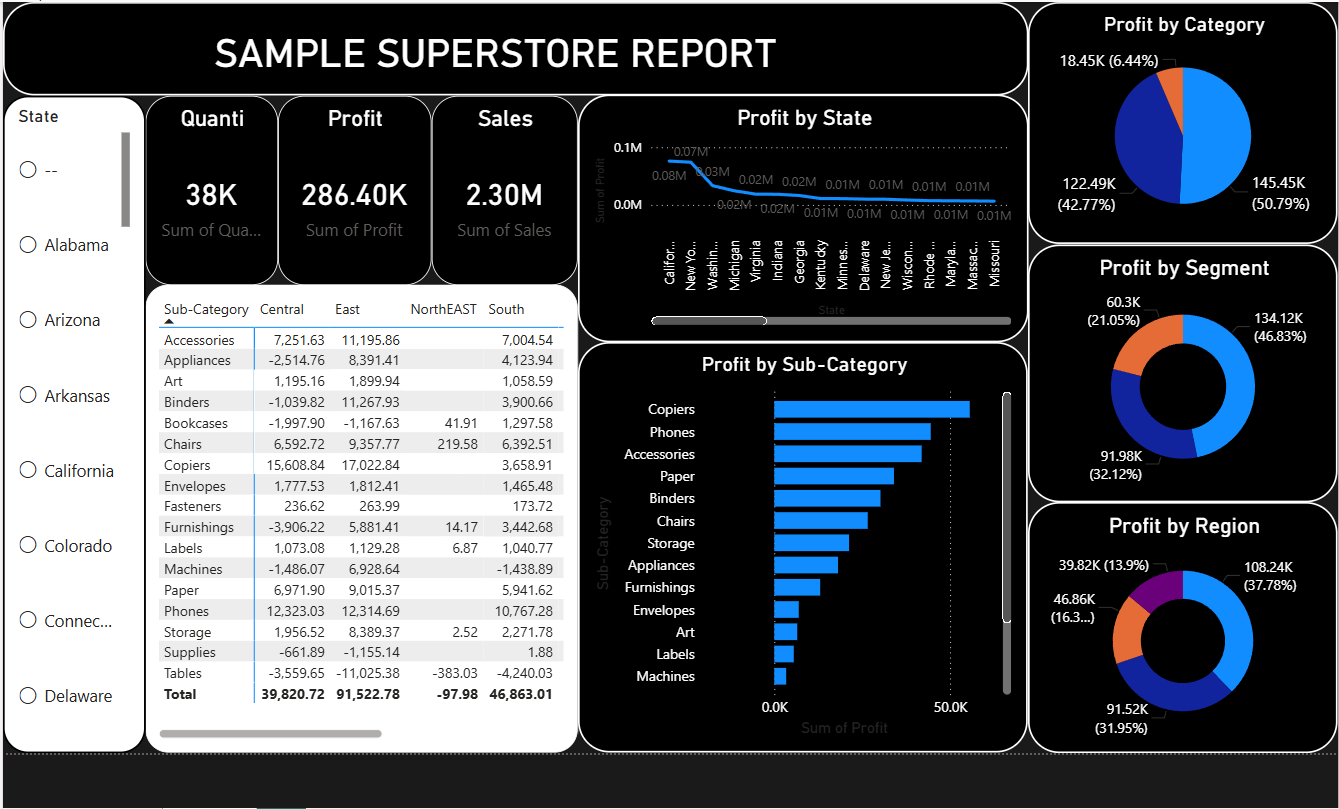

The page's visual inventory and layout, read from the dashboard file:
{"tool":"powerbi","page":{"name":"Page 1","canvas":[1280,720],"ordinal":0},"visuals":[{"type":"textbox","box":[0,0,983.2,89.3],"z":0},{"type":"pieChart","title":"Profit by Category","fields":{"Category":["Table_1.Category"],"Y":["Sum(Table_1.Profit)"]},"box":[983.2,0,297.1,232.3],"z":1000},{"type":"donutChart","title":"Profit by Segment","fields":{"Category":["Table_1.Segment"],"Y":["Sum(Table_1.Profit)"]},"box":[983.2,232.3,297.1,247],"z":2000},{"type":"donutChart","title":"Profit by Region","fields":{"Category":["Table_1.Region"],"Y":["Sum(Table_1.Profit)"]},"box":[983.2,479.4,297.1,240.9],"z":3000},{"type":"lineChart","title":" Profit by State","fields":{"Category":["Table_1.State"],"Y":["Sum(Table_1.Profit)"]},"box":[551.5,89.3,431.7,237.2],"z":4000},{"type":"clusteredBarChart","title":" Profit by Sub-Category","fields":{"Category":["Table_1.Sub-Category"],"Y":["Sum(Table_1.Profit)"]},"box":[551.1,326.1,431.4,393.9],"z":5000},{"type":"pivotTable","fields":{"Columns":["Table_1.Region"],"Rows":["Table_1.Sub-Category"],"Values":["Sum(Table_1.Profit)"]},"box":[137.1,271.2,414.1,448.7],"z":6000},{"type":"card","title":"Sales","fields":{"Values":["Sum(Table_1.Sales)"]},"box":[411.2,89.5,139.9,181.8],"z":7000},{"type":"card","title":"Profit","fields":{"Values":["Sum(Table_1.Profit)"]},"box":[264,89.5,147.2,181.8],"z":8000},{"type":"card","title":"Quanti","fields":{"Values":["Sum(Table_1.Quantity)"]},"box":[137.1,89.5,127,181.8],"z":9000},{"type":"listSlicer","fields":{"Values":["Table_1.State"]},"box":[0,89.5,137.1,630.5],"z":9001}]}

Visuals, with their boxes in screenshot pixels (x1, y1, x2, y2):
textbox: (left=7, top=0, right=1021, bottom=92)
"Profit by Category" pieChart: (left=1021, top=0, right=1328, bottom=240)
"Profit by Segment" donutChart: (left=1021, top=240, right=1328, bottom=494)
"Profit by Region" donutChart: (left=1021, top=495, right=1328, bottom=743)
" Profit by State" lineChart: (left=576, top=92, right=1021, bottom=337)
" Profit by Sub-Category" clusteredBarChart: (left=576, top=336, right=1021, bottom=743)
pivotTable - Table_1.Region x Table_1.Sub-Category: (left=148, top=280, right=576, bottom=743)
"Sales" card: (left=431, top=92, right=576, bottom=280)
"Profit" card: (left=279, top=92, right=431, bottom=280)
"Quanti" card: (left=148, top=92, right=279, bottom=280)
listSlicer - Table_1.State: (left=7, top=92, right=148, bottom=743)
